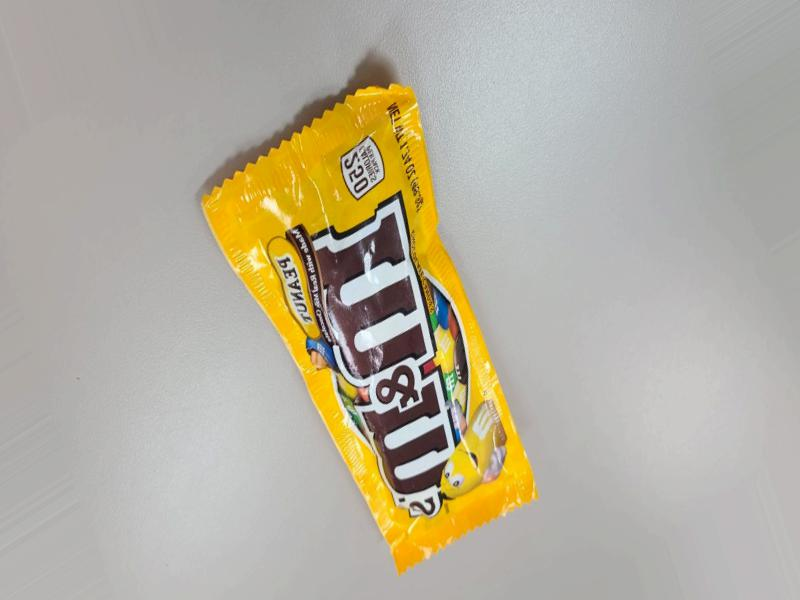m&m: (197, 44, 505, 600)
